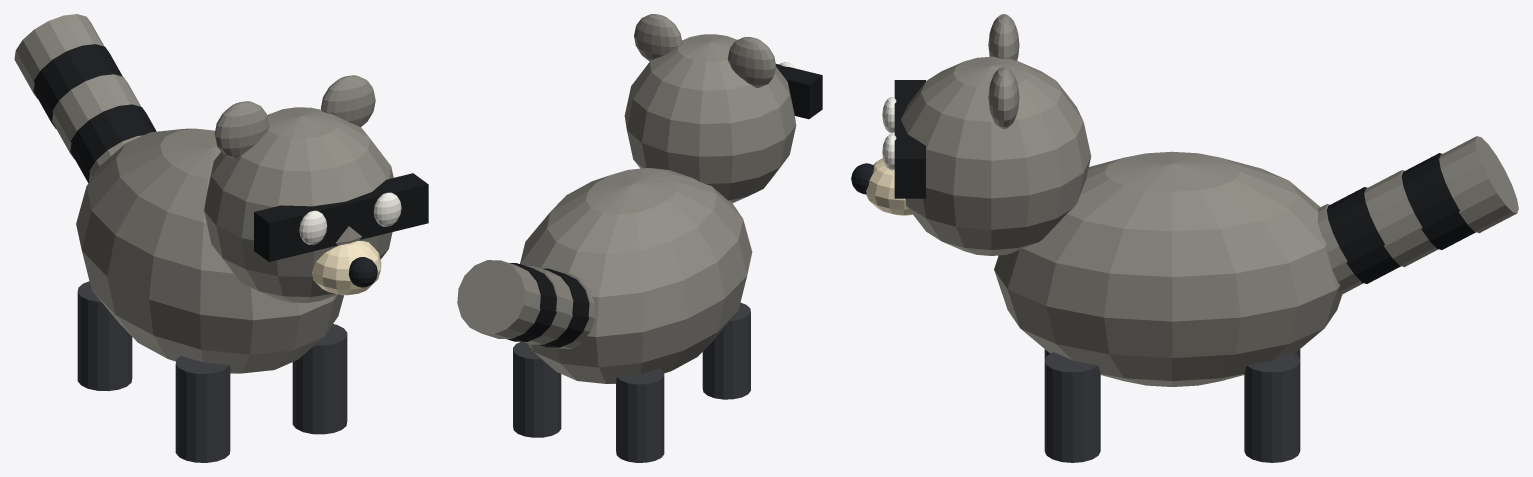
Rendered from raccoon-lod0.glb.
3 views of the same model, side by side, from view 1: azimuth 30°, elevation 25°; view 2: azimuth 150°, elevation 25°; view 3: azimuth 270°, elevation 25° (orthographic). The views are drawn at different scales.
Parts seen in each view (by area): view 1: raccoon; view 2: raccoon; view 3: raccoon.
Boxes of the visible parts, x1,y1,x2,y2 form: raccoon: (14,14,428,462); raccoon: (457,14,822,462); raccoon: (851,14,1518,462).
Size of the model in its own units: 0.396 by 0.67 by 1.07.
